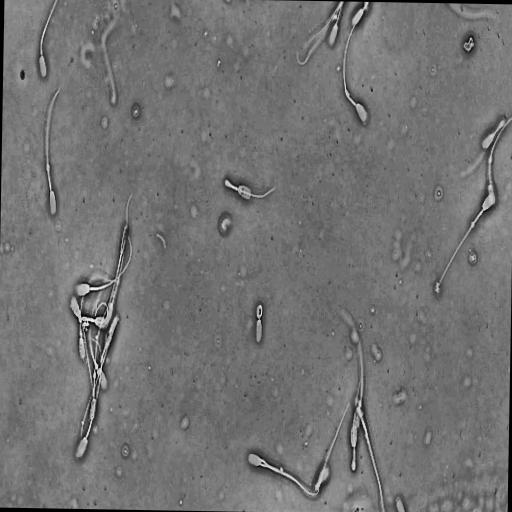coiled-tail: (257, 305, 262, 320)
dirt-particles: (459, 28, 478, 57), (218, 211, 233, 238), (46, 163, 50, 173)
distal-droplet: (345, 89, 349, 100), (471, 221, 474, 228), (489, 158, 492, 164)
folded-tail: (225, 180, 275, 198), (352, 384, 360, 470), (82, 303, 108, 323)
normal: (435, 191, 497, 293), (75, 196, 133, 297), (246, 450, 320, 500), (76, 337, 102, 460), (342, 10, 369, 126), (90, 291, 114, 419), (79, 275, 115, 358), (45, 85, 63, 217), (70, 297, 94, 393), (487, 117, 512, 206), (89, 278, 107, 391), (467, 121, 504, 174), (38, 0, 60, 81), (224, 178, 278, 203), (350, 382, 360, 471), (82, 303, 108, 329), (254, 299, 265, 347)
proximal-droplet: (261, 459, 267, 468), (78, 315, 82, 322), (93, 372, 96, 379), (95, 363, 98, 370), (79, 331, 83, 336)
